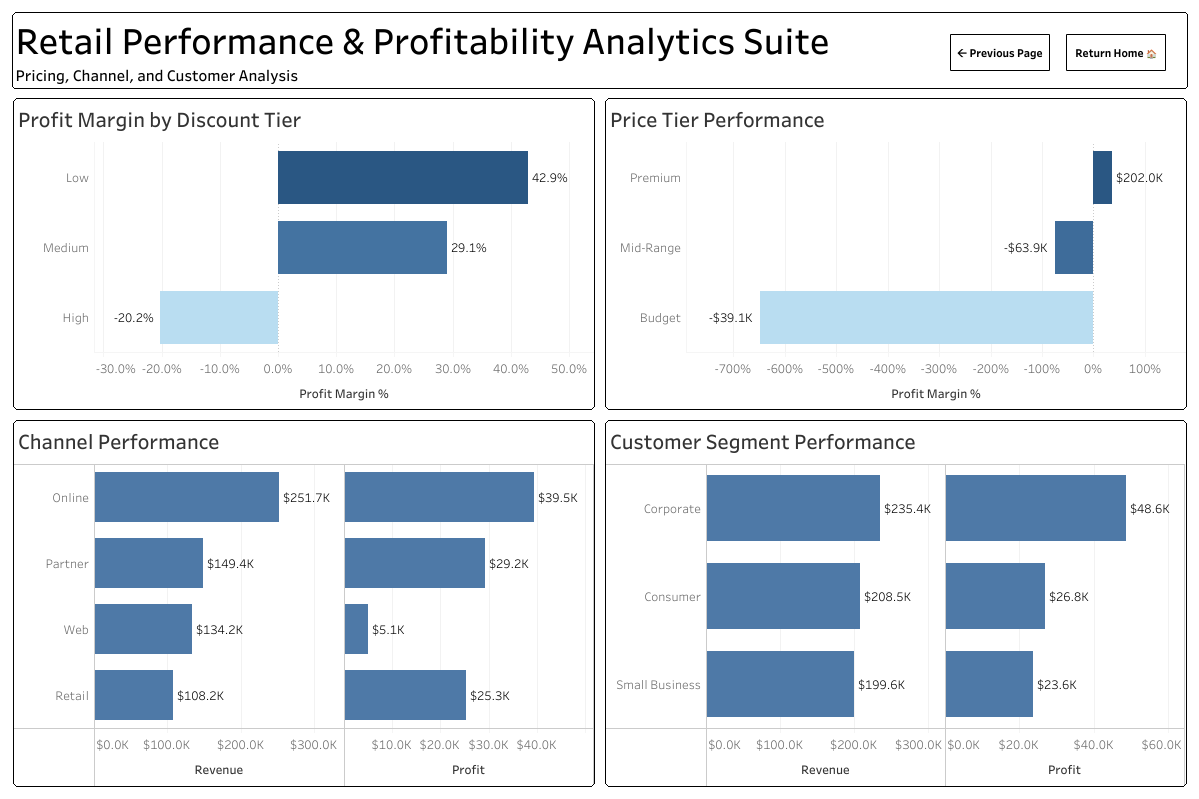

The page's visual inventory and layout, read from the dashboard file:
{"tool":"tableau","page":{"name":"Pricing, Channel, Customer Analysis","canvas":[1200,800],"ordinal":2},"visuals":[{"type":"text","box":[8,8,1184,85]},{"type":"dashboard-object","box":[950,34,100,37]},{"type":"dashboard-object","box":[1066,34,100,37]},{"type":"worksheet","title":"Discount Tier vs Profit","mark":"Automatic","rows":["discount_tier"],"cols":["Calculation_0014094019813394"],"box":[8,93,592,322]},{"type":"worksheet","title":"Price Tier Perf","mark":"Automatic","rows":["price_tier"],"cols":["Calculation_0014094019813394"],"box":[600,93,592,322]},{"type":"worksheet","title":"Channel Perf","mark":"Bar","rows":["channel"],"cols":["revenue","profit"],"box":[8,415,592,377]},{"type":"worksheet","title":"Cust Seg Perf","mark":"Automatic","rows":["customer_segment"],"cols":["revenue","profit"],"box":[600,415,592,377]}]}

Visuals, with their boxes in screenshot pixels (x1, y1, x2, y2), scaled from the page's 1200x800 canvas onto the 1199x799 screenshot:
text: [8,8,1191,93]
dashboard-object: [949,34,1049,71]
dashboard-object: [1065,34,1165,71]
"Discount Tier vs Profit" worksheet: [8,93,600,414]
"Price Tier Perf" worksheet: [600,93,1191,414]
"Channel Perf" worksheet (Bar marks): [8,414,600,791]
"Cust Seg Perf" worksheet: [600,414,1191,791]
